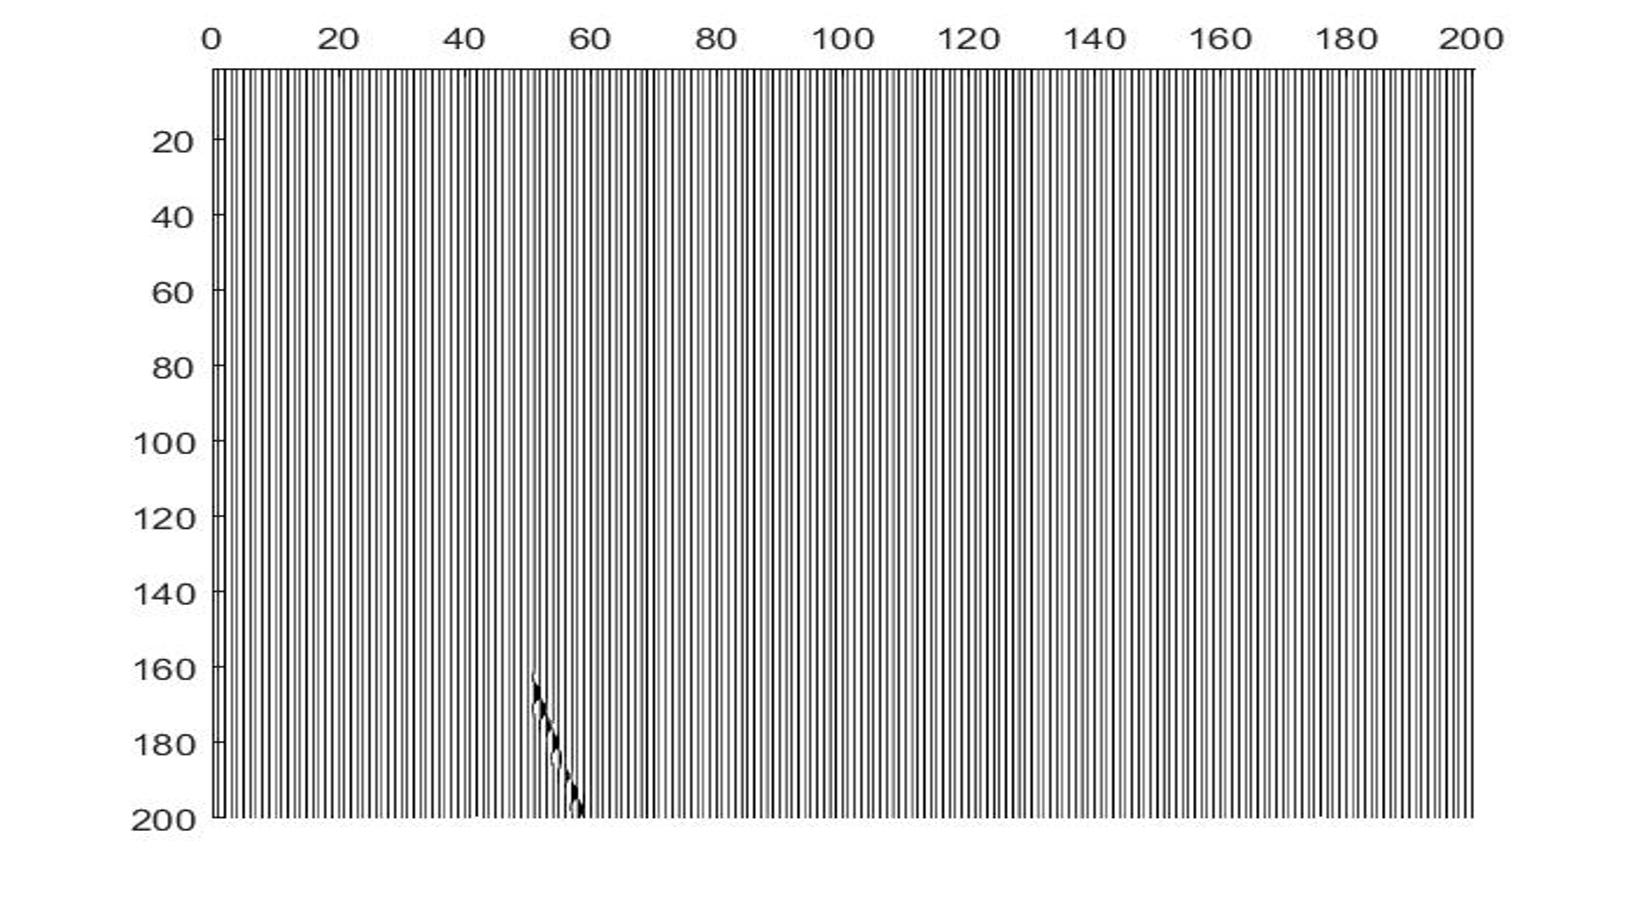signal: (516, 666, 597, 818)
